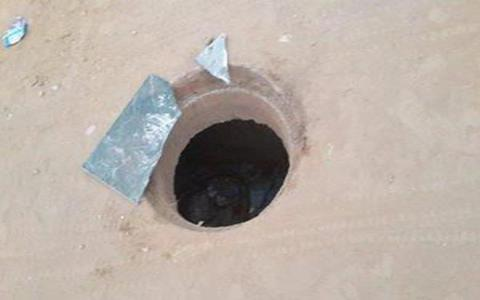open manhole: (114, 45, 295, 233)
